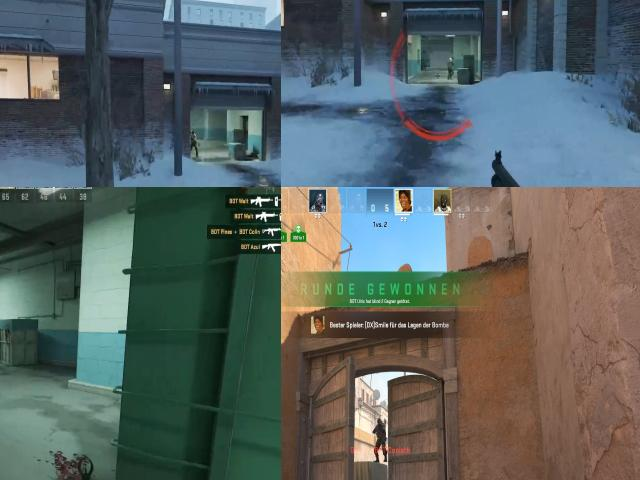CT: (376, 418, 386, 463), (445, 55, 455, 77)
CT-Head: (448, 57, 454, 63), (377, 419, 382, 425)
T: (189, 128, 200, 154)
T-Head: (191, 131, 198, 140)
